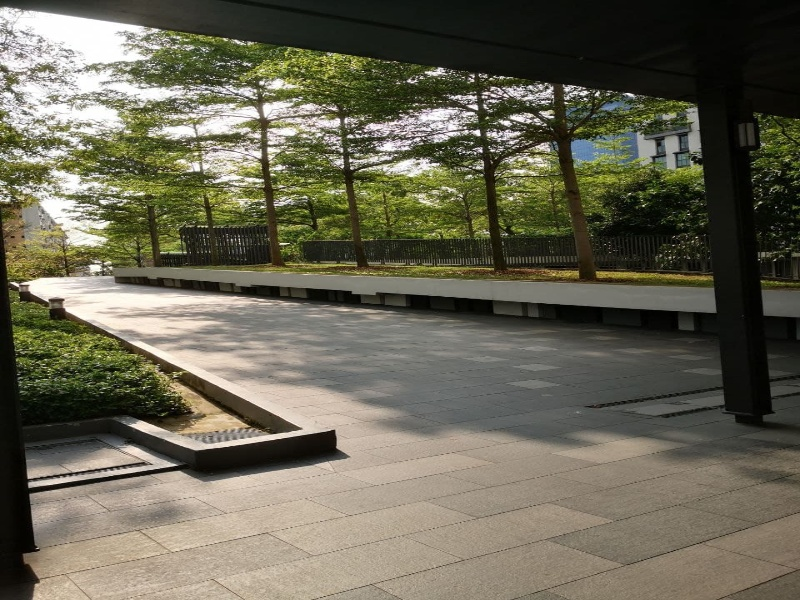slope: (38, 265, 724, 455)
